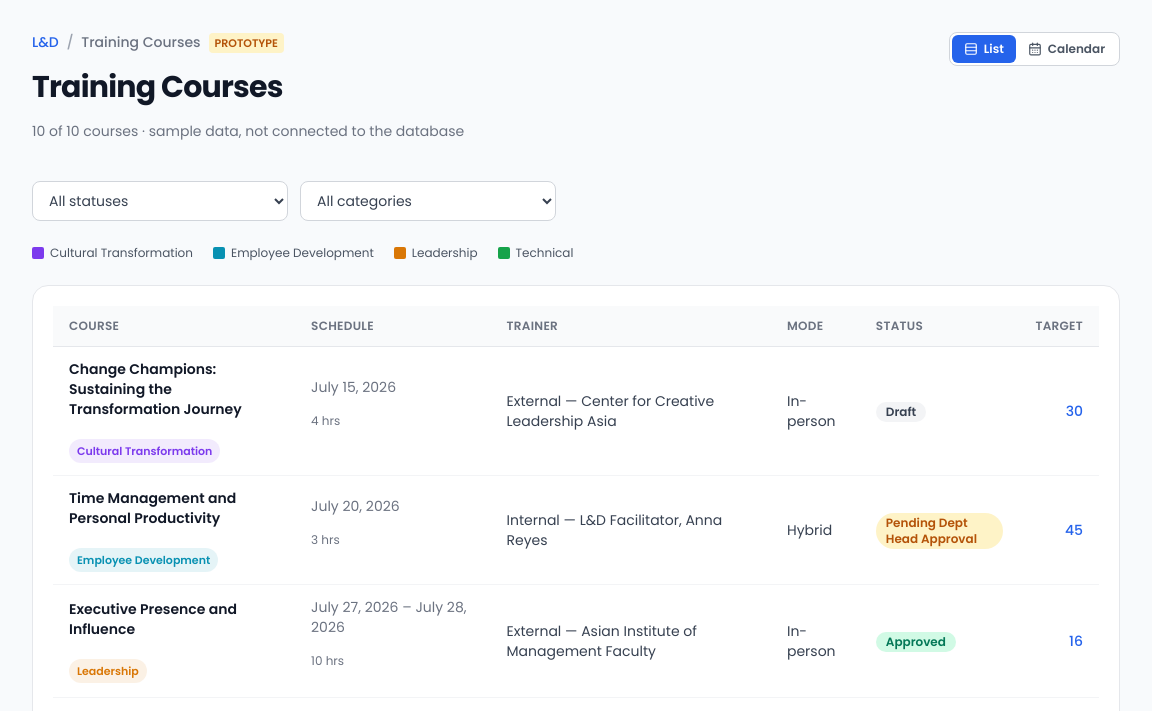
TrainingCoursesPrototype › navigates months and respects the active filter
Click the button "Calendar": {"x": 1066, "y": 49} x1=1016 y1=35 x2=1117 y2=63
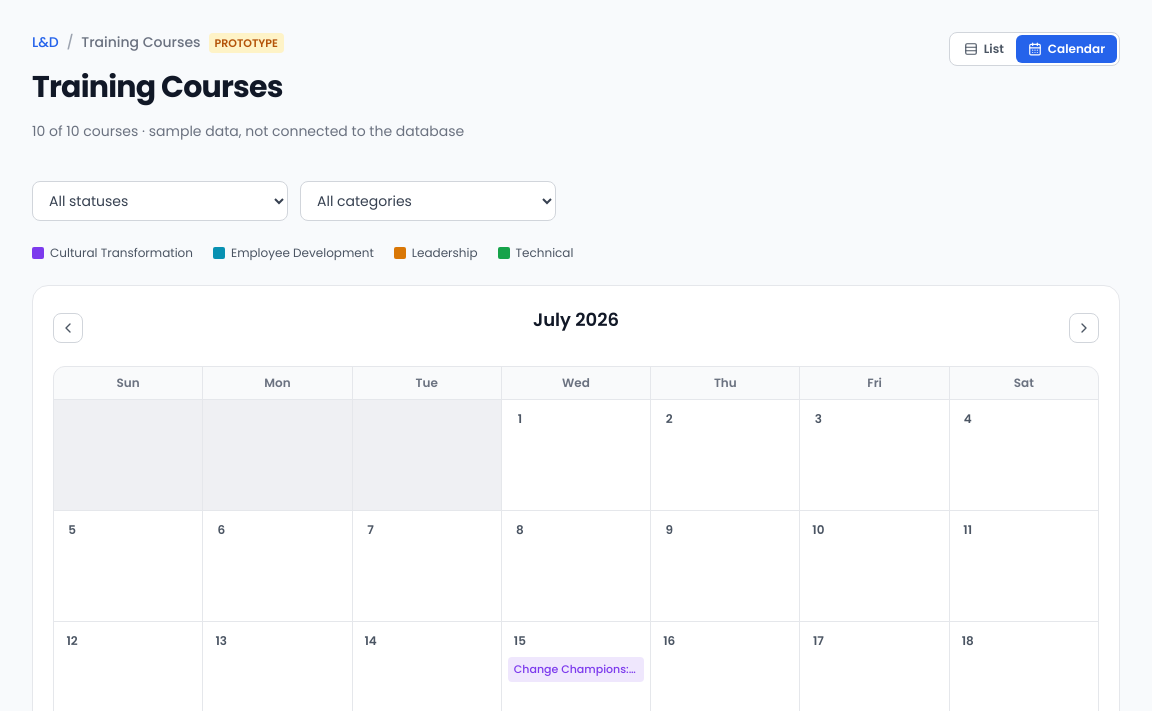
Note: Next-month chevron is the one right after the month heading.
Click the 4th button: {"x": 1084, "y": 328} x1=1069 y1=313 x2=1099 y2=343
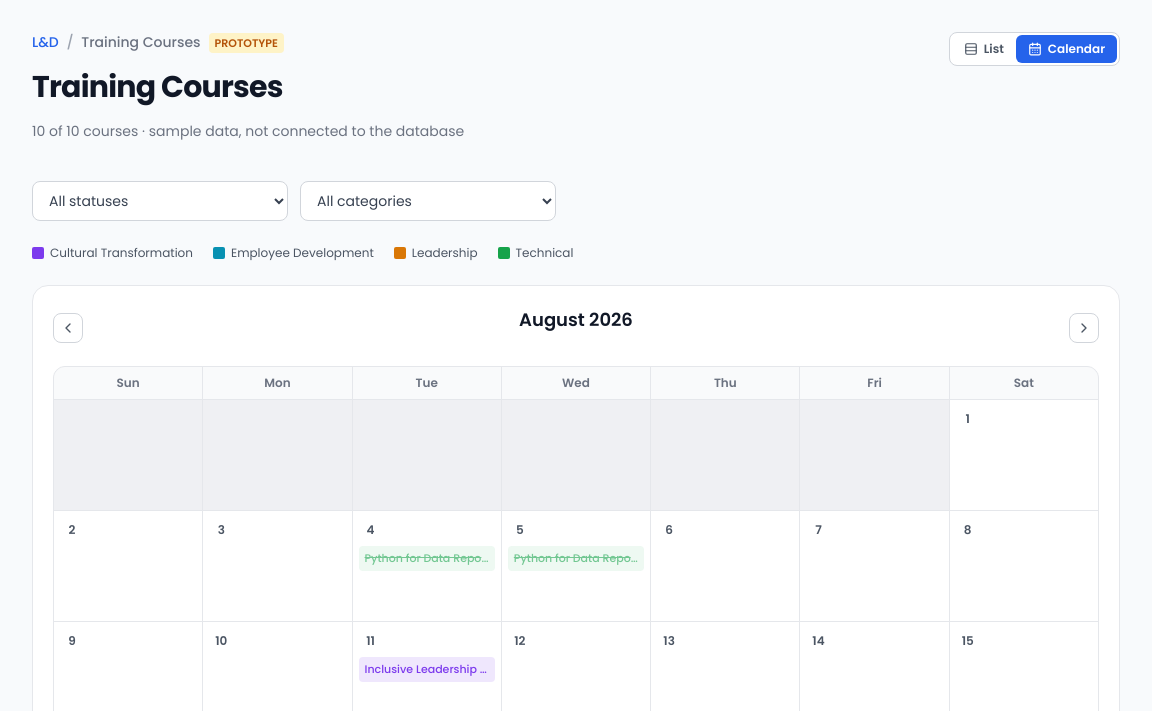
Expected: the heading "August 2026" is shown, x1=519 y1=306 x2=633 y2=334
Expected: the button "Inclusive Leadership in a Multicultural Workplace" is shown, x1=359 y1=657 x2=495 y2=682
